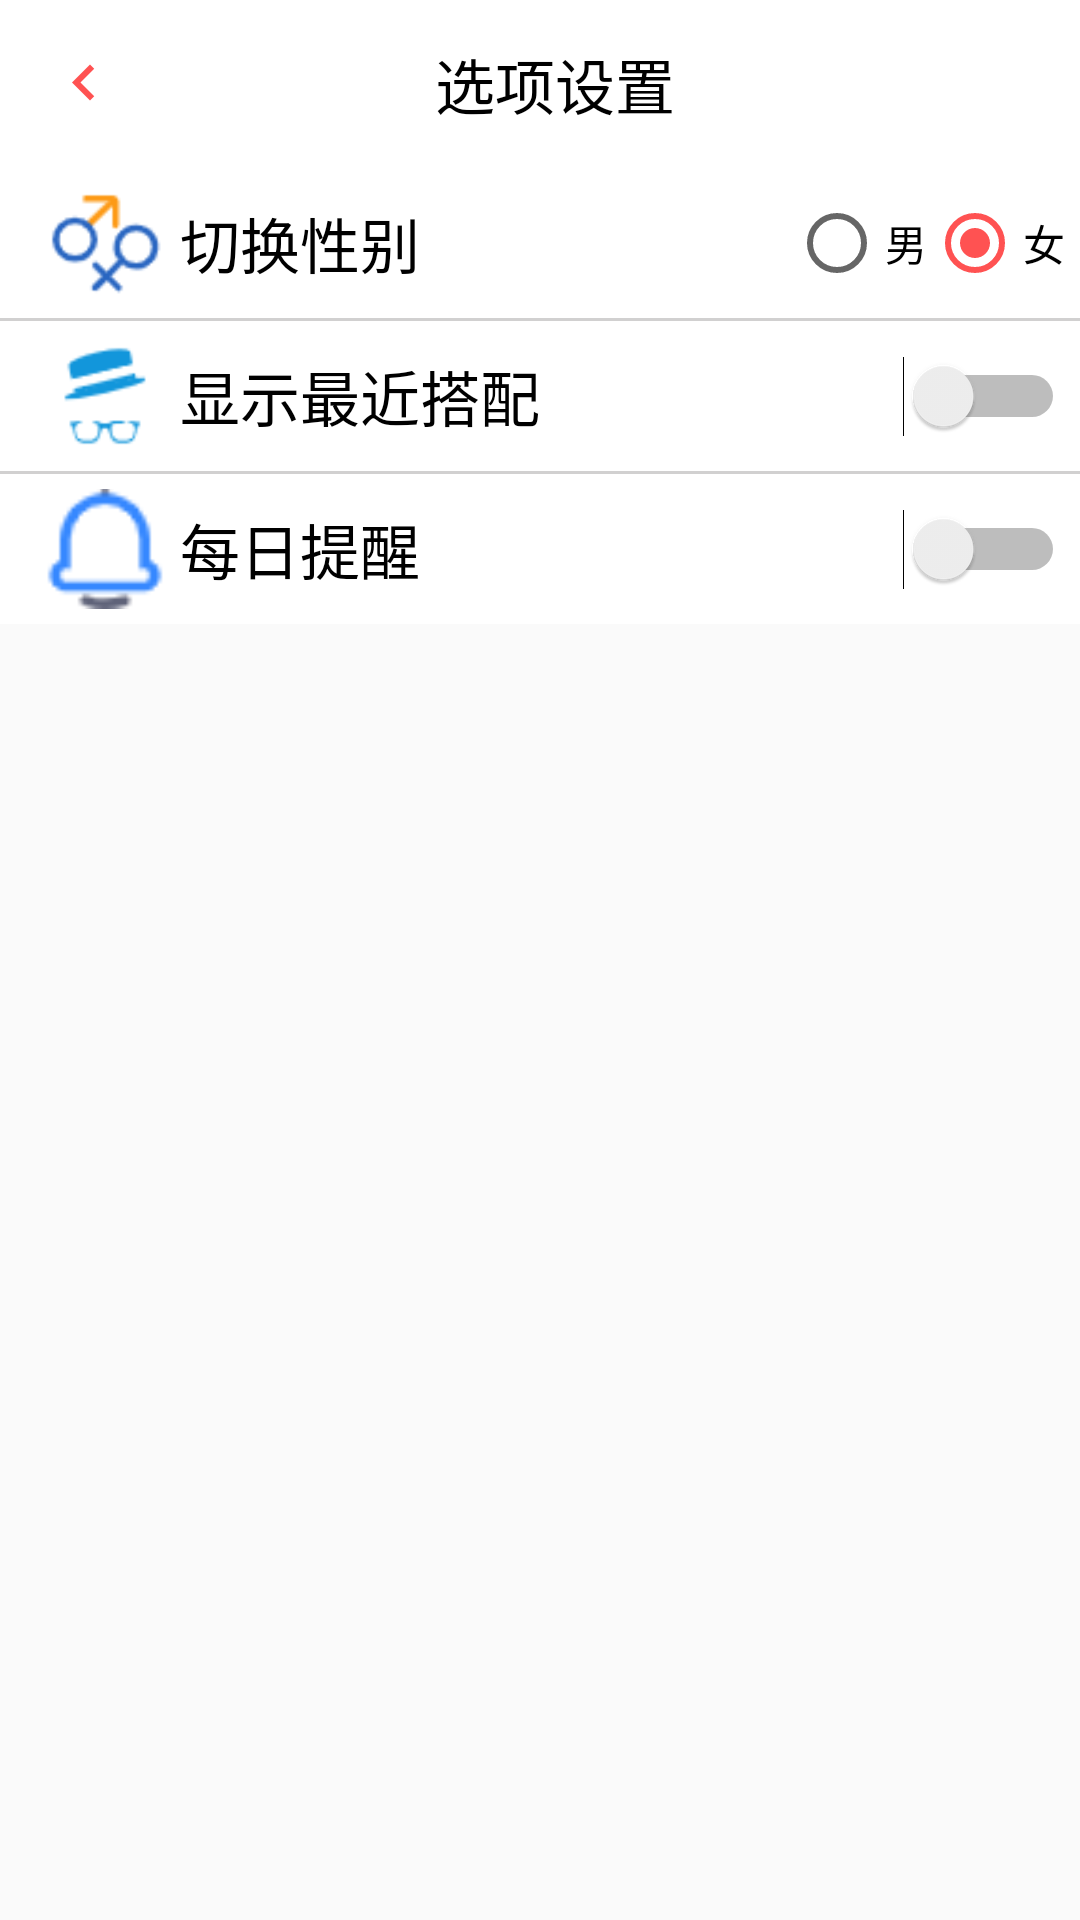

Point at icon controls on the screen. Image size 1080 x 1920, points as point (x, y).
back: point (83, 82)
remind: point (105, 549)
sex: point (106, 244)
